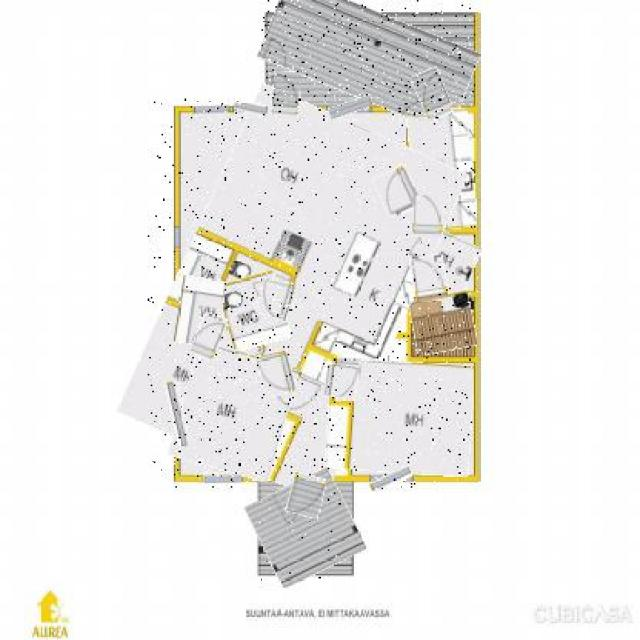door: (377, 168, 418, 217), (414, 68, 451, 119), (258, 351, 294, 395), (288, 474, 324, 517), (411, 257, 446, 301), (257, 278, 294, 318), (193, 314, 224, 358), (412, 197, 443, 240), (271, 72, 300, 116), (324, 366, 358, 400)
window: (169, 380, 186, 446), (370, 469, 412, 489), (328, 98, 372, 115), (203, 472, 242, 483), (234, 105, 268, 117), (192, 105, 230, 114)
zone: (148, 99, 437, 488), (261, 0, 475, 115), (326, 358, 472, 476), (174, 346, 292, 477), (252, 474, 360, 580), (410, 109, 476, 231), (222, 272, 286, 348), (408, 230, 478, 296), (411, 294, 475, 352), (176, 277, 224, 346)
